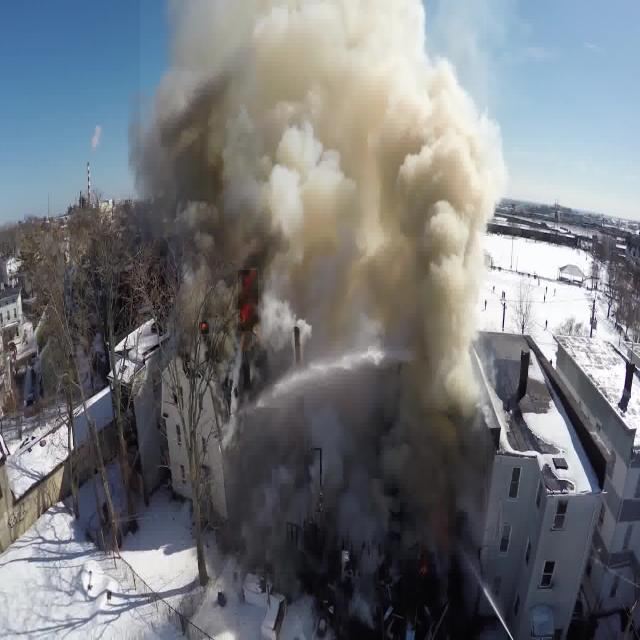Fire: (238, 270, 258, 331), (199, 322, 209, 334)
Smoke: (140, 0, 487, 572)
